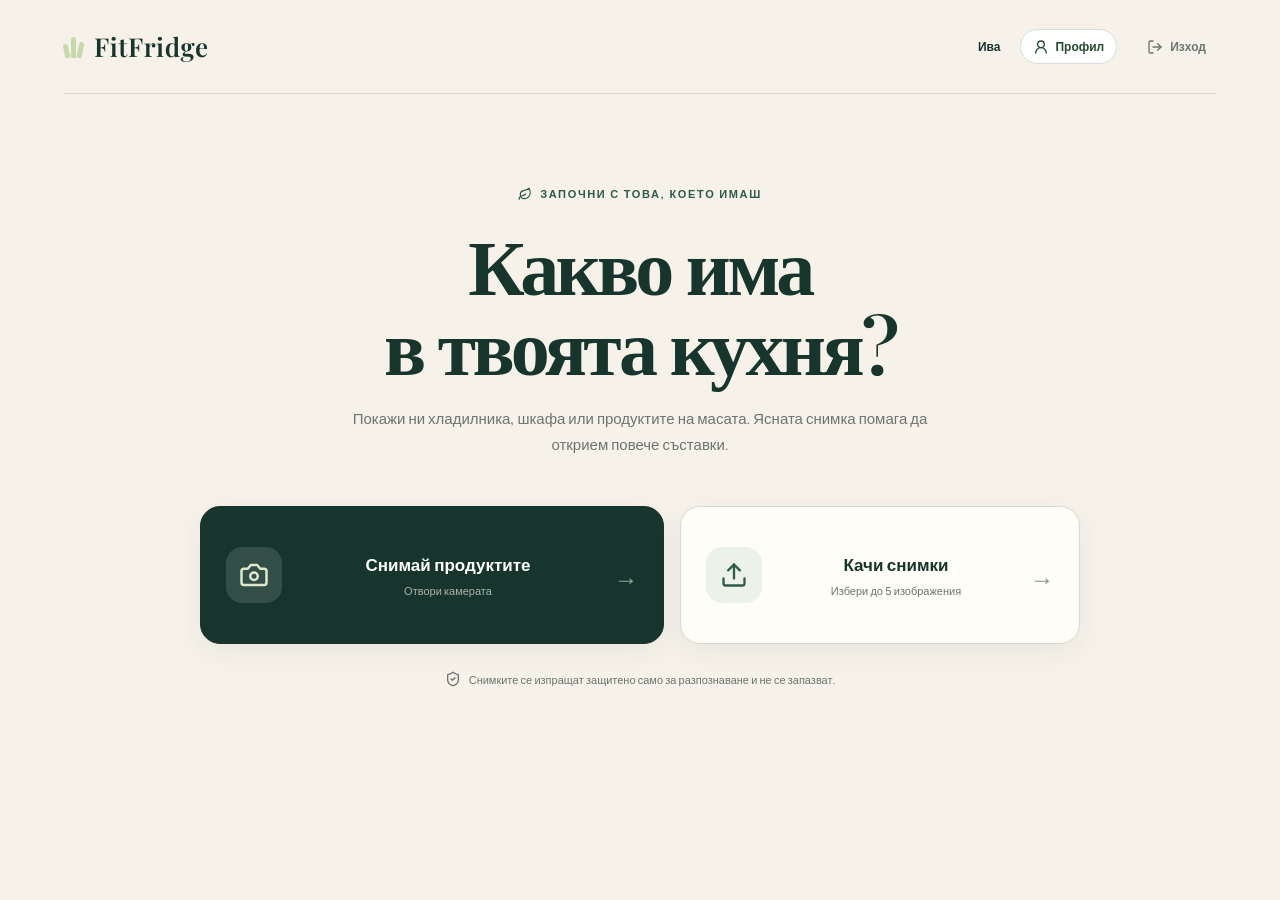
Test: opens the private nutrition profile
Click the button "Профил": (1069, 46) [1020,29,1117,64]
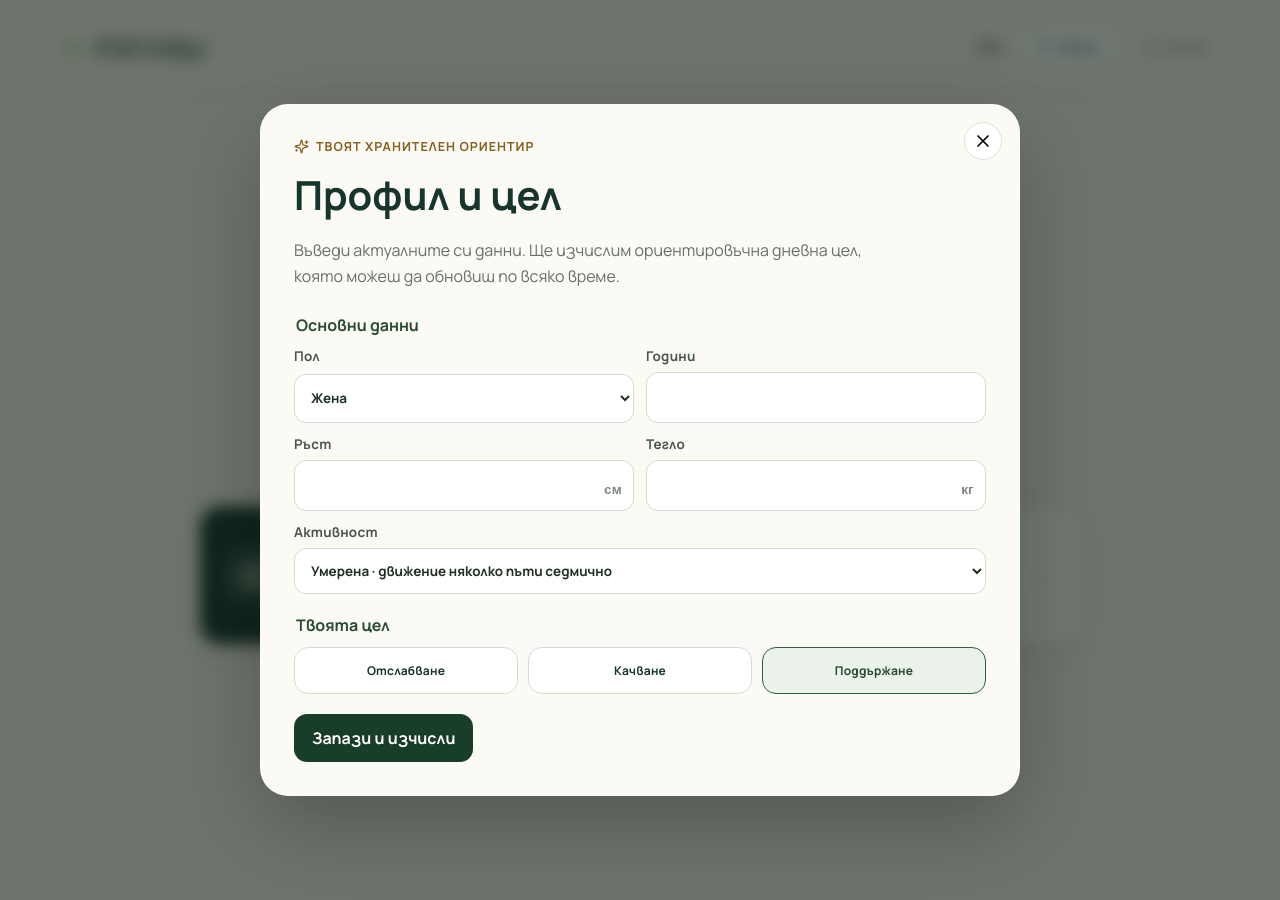
Now the heading "Профил и цел" is shown, box [294,167,562,222]
Now the number field labelled "Години" is shown, box [646,372,986,423]
